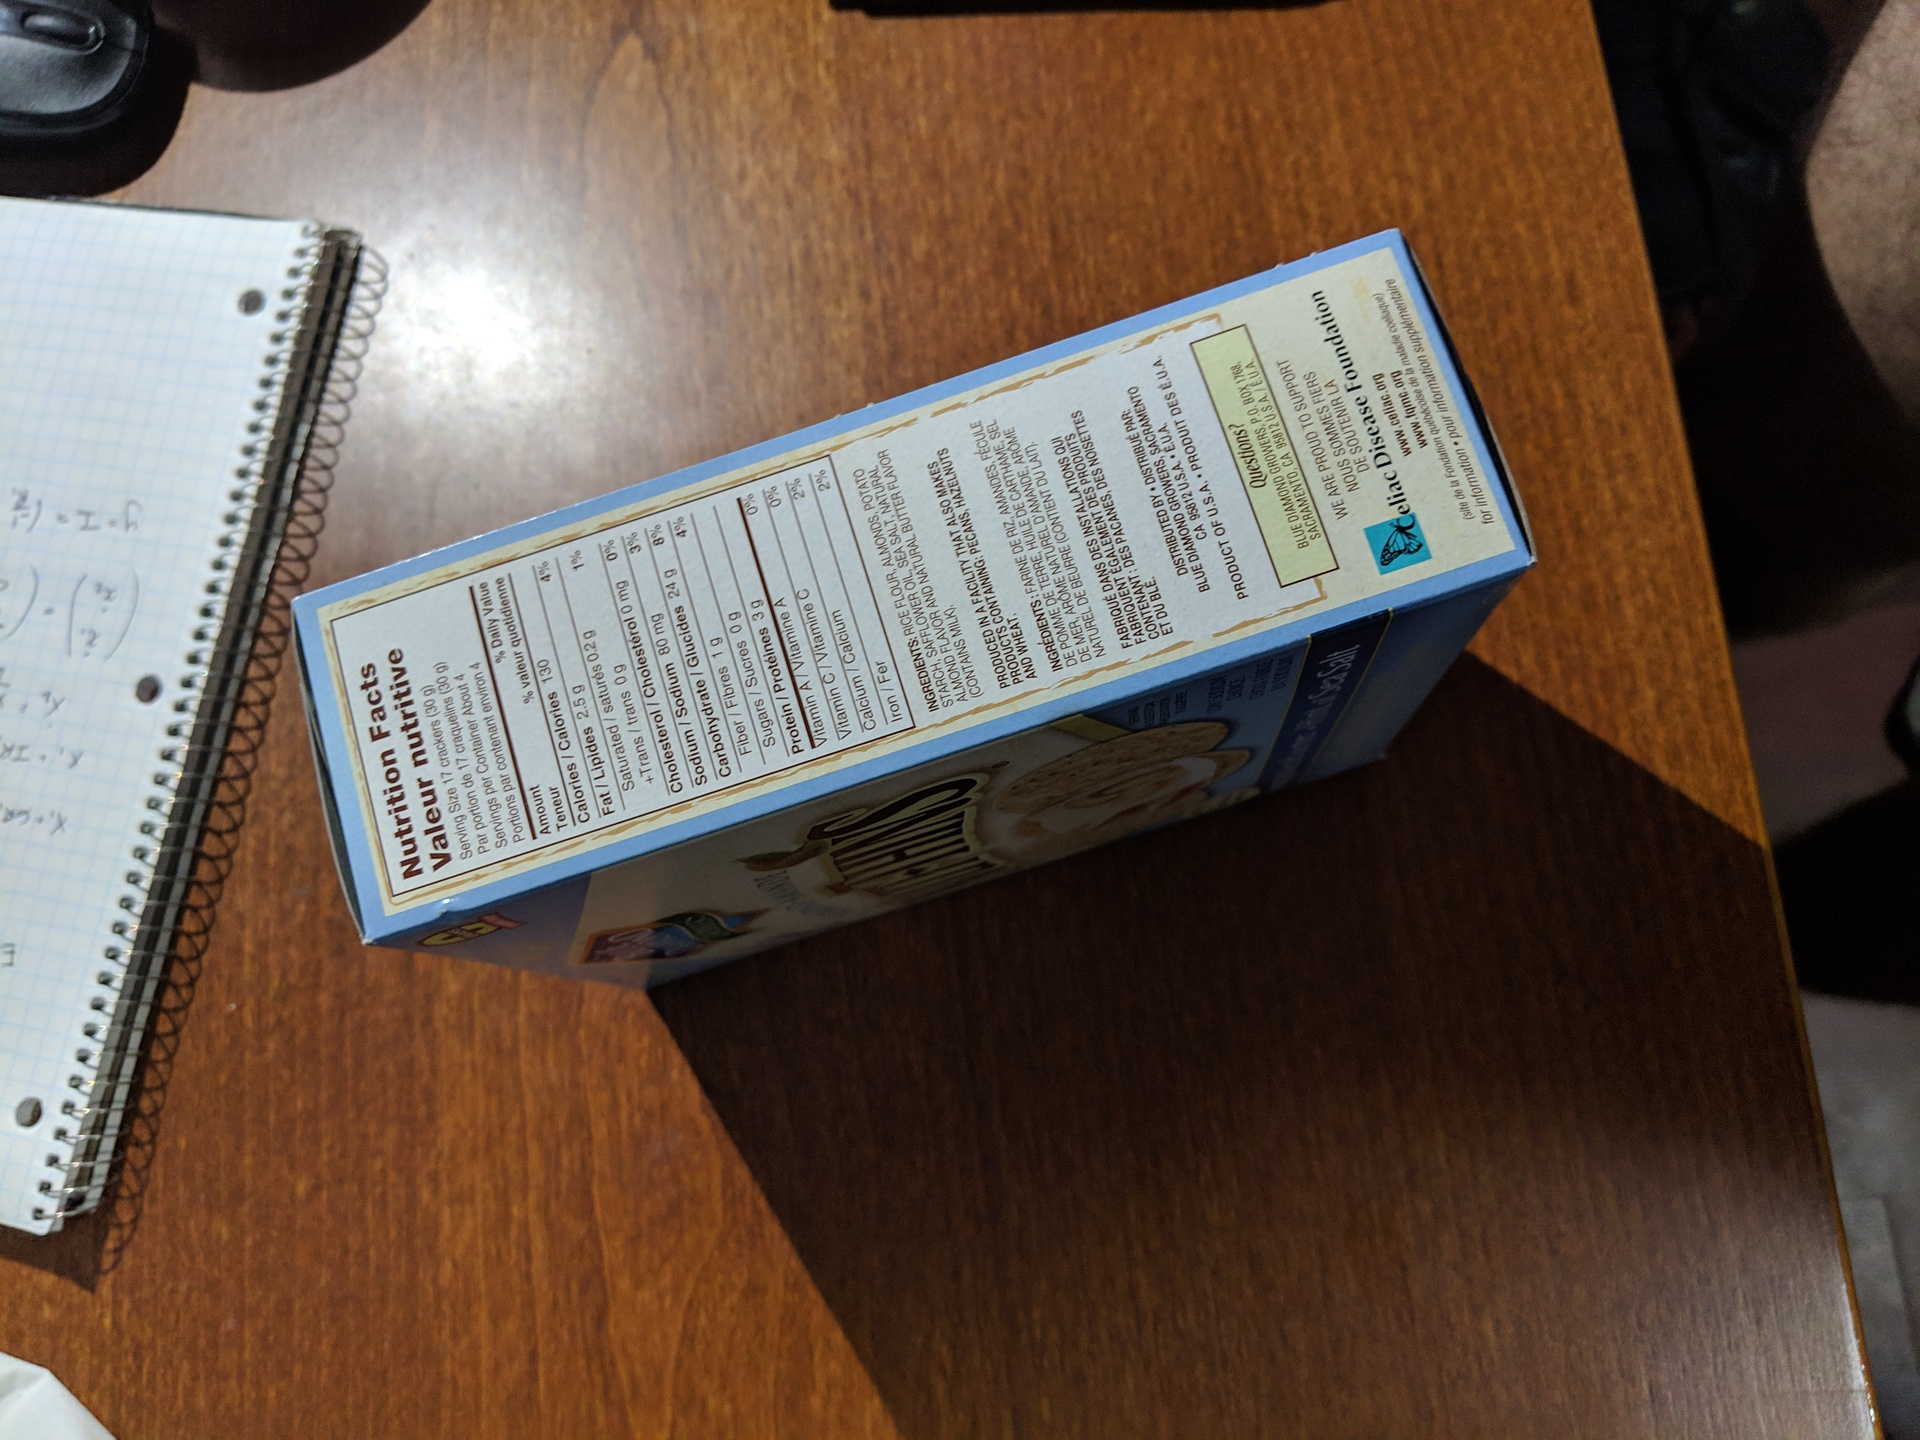blue_diamond_nut_thins_almond_seasalt: (351, 296, 1454, 868)
